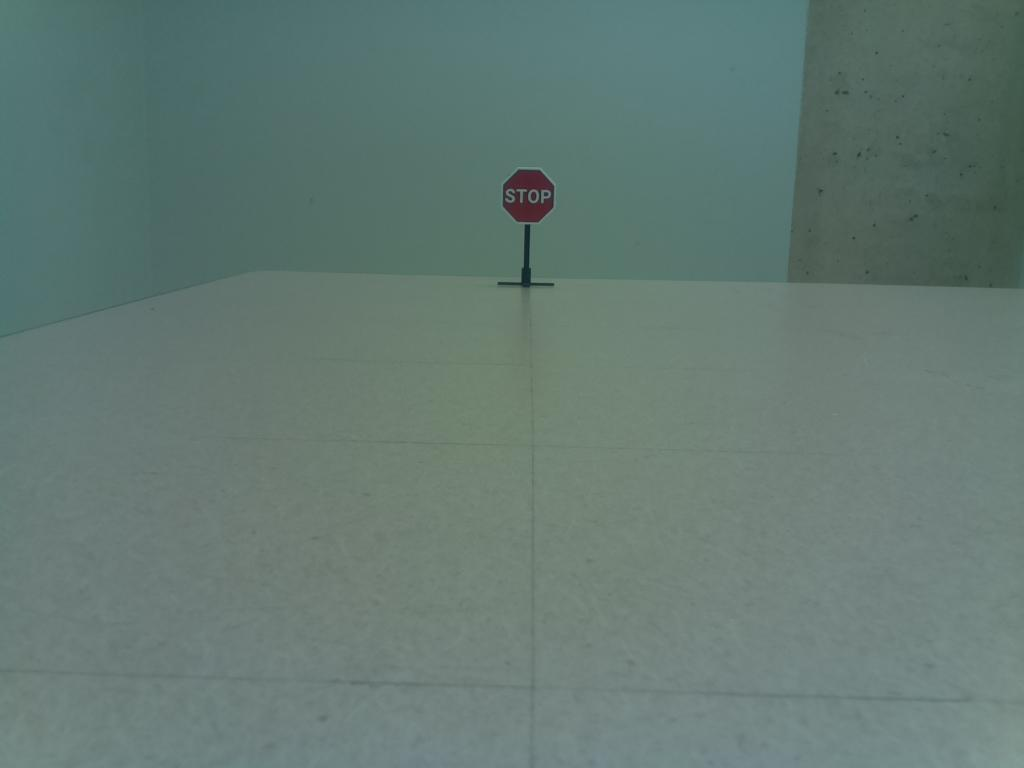sign_stop: (494, 164, 562, 230)
